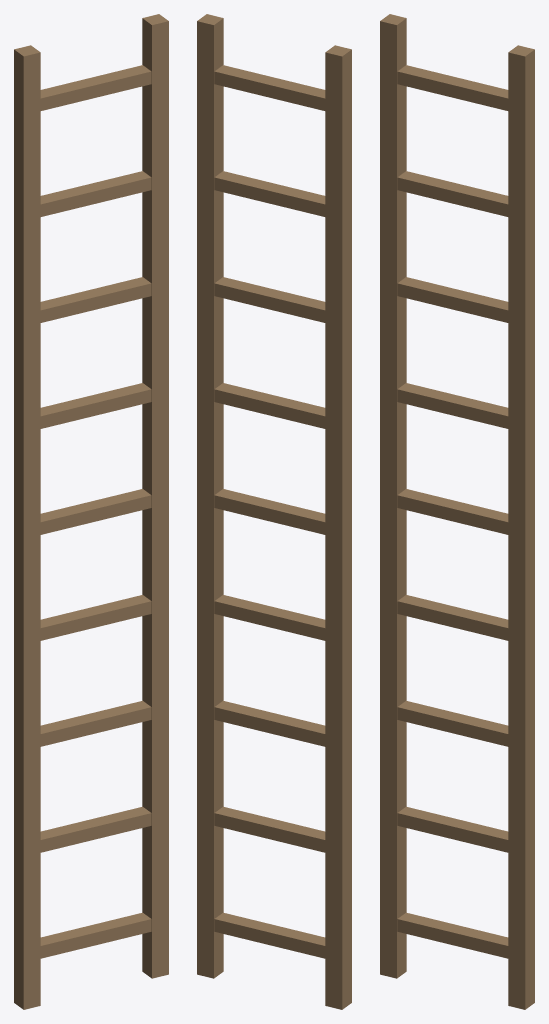
Rendered from work-ladder-9.glb.
3 views of the same model, side by side, from view 1: azimuth 30°, elevation 25°; view 2: azimuth 150°, elevation 25°; view 3: azimuth 330°, elevation 25° (orthographic).
Parts seen in each view (by area): view 1: work-ladder; view 2: work-ladder; view 3: work-ladder.
Boxes of the visible parts, left/top/right/bottom form: work-ladder: left=14, top=14, right=168, bottom=1009; work-ladder: left=197, top=14, right=351, bottom=1009; work-ladder: left=380, top=14, right=534, bottom=1009.
Bounding box in the file's own units: 0.43 × 2.7 × 0.05.
